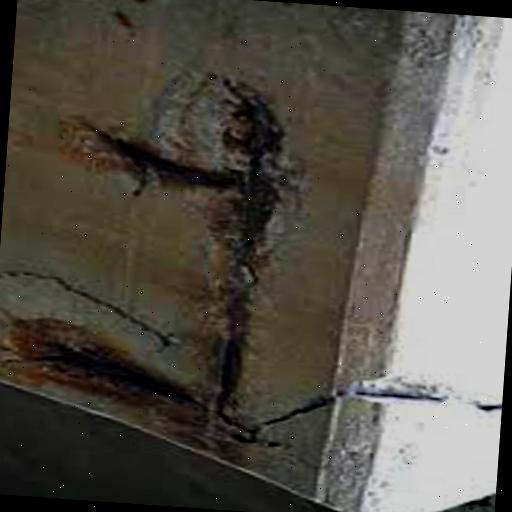spalling: (13, 67, 291, 453), (3, 253, 186, 358), (267, 364, 499, 437)
